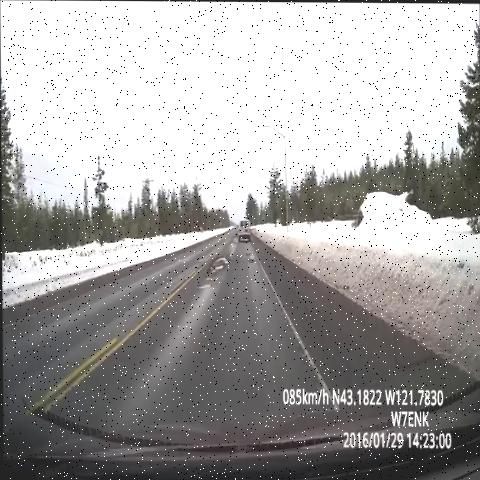pothole: (196, 245, 234, 297), (242, 245, 260, 268), (225, 229, 242, 252)
